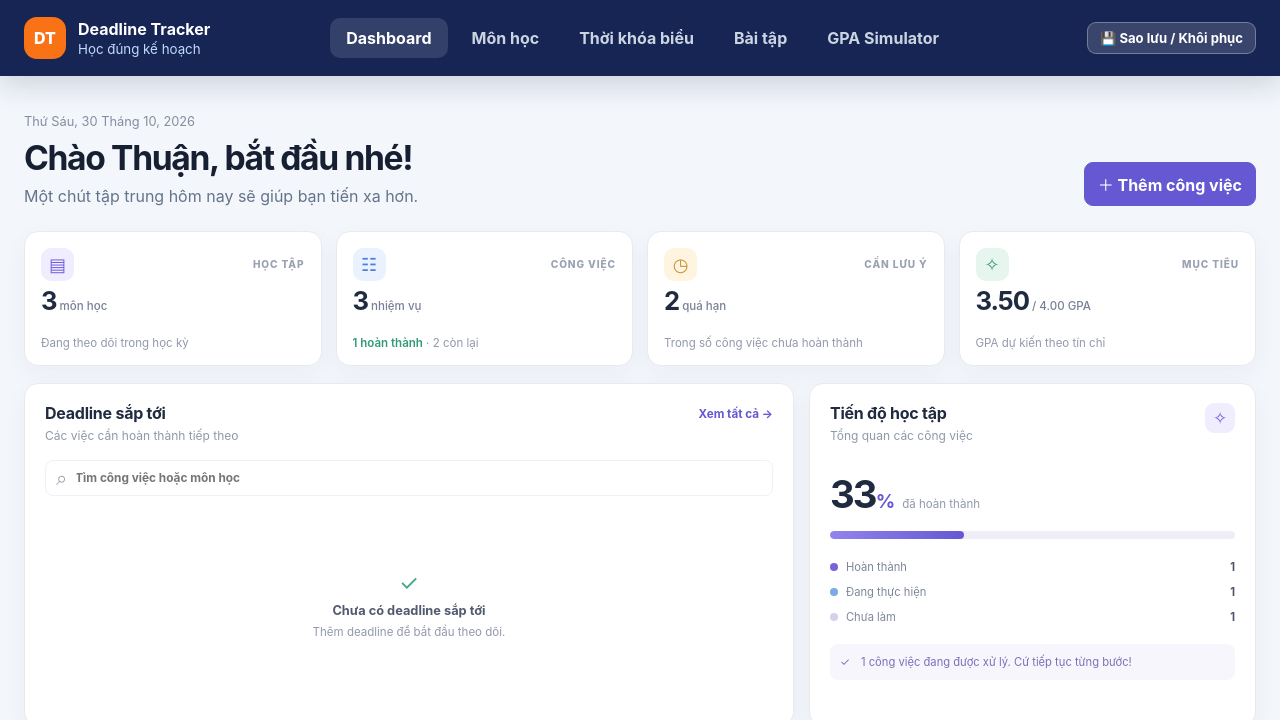
Test: Local Storage Hardening & Triage Reproduction Suite › Issue 2: Storage QuotaExceededError and User Notification Visibility › displays visible warning banner when storage.setItem throws QuotaExceededError in UI
The image size is (1280, 720).
Step 1. Click the button "Môn học" → (505, 38), box [456,18,555,58]
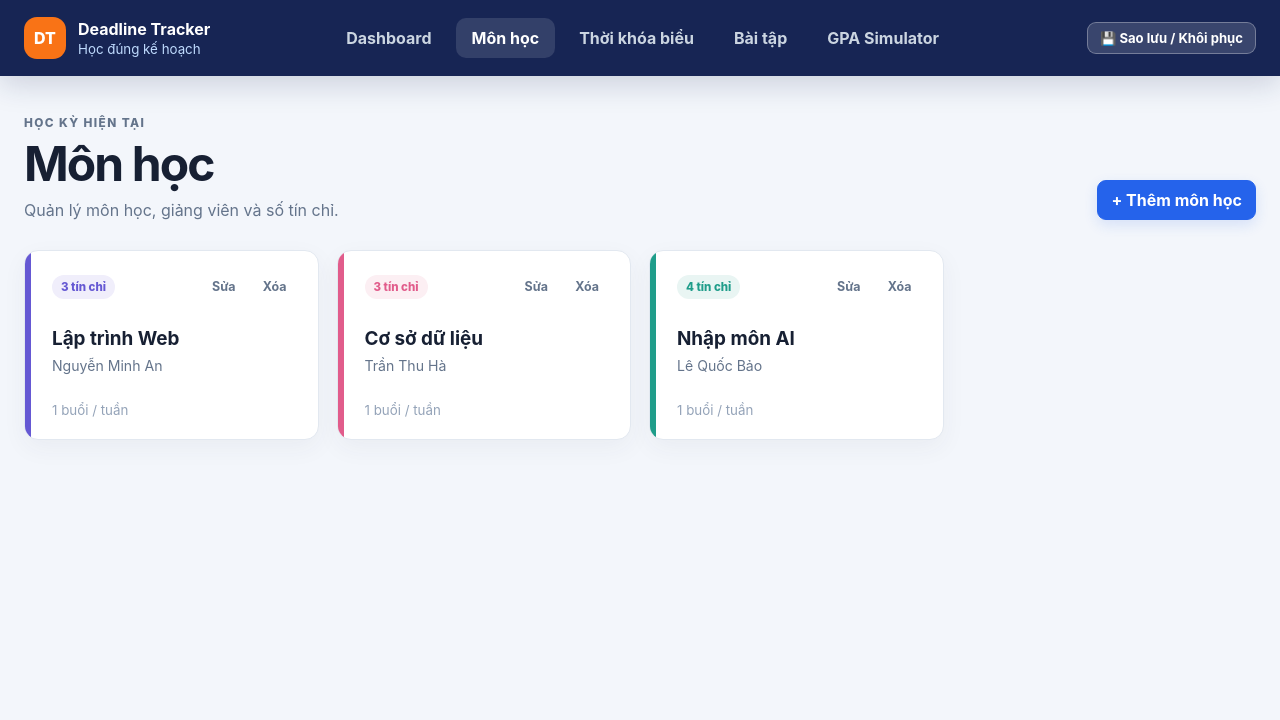
Open new course modal
Step 2. Click the button "+ Thêm môn học" → (1177, 200), box [1097,180,1256,220]
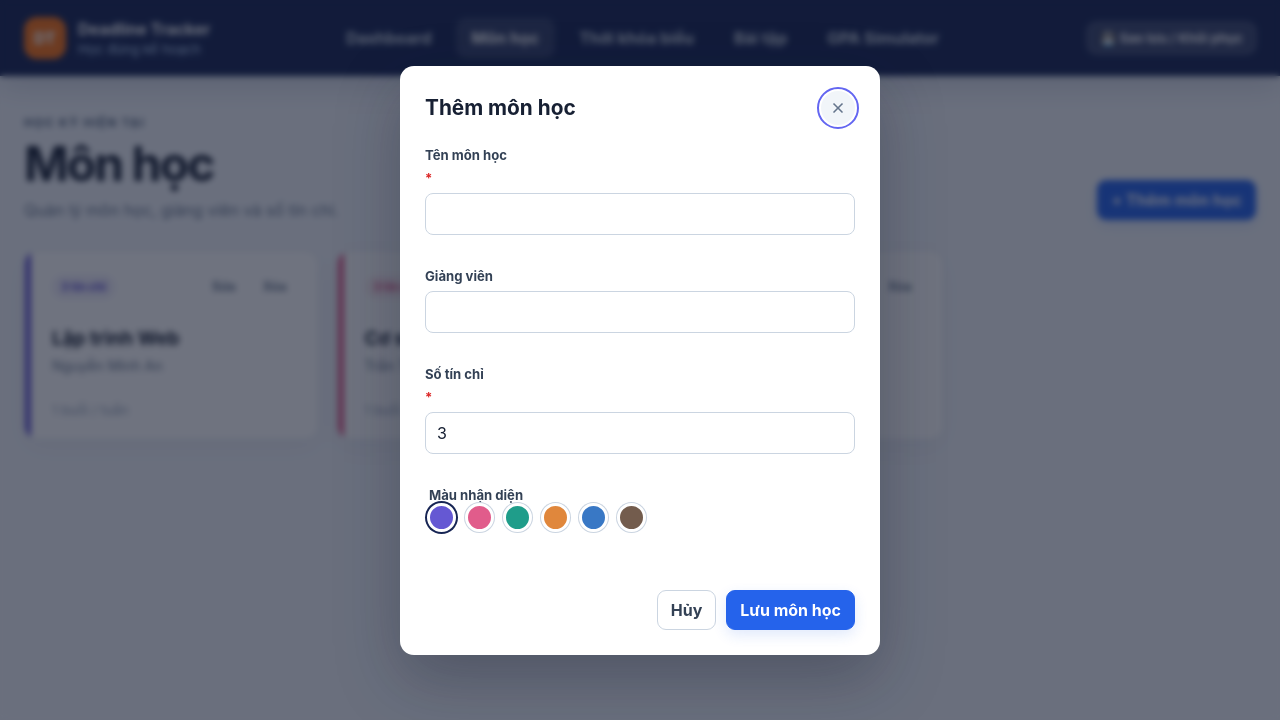
Step 3. Type "Môn học kiểm thử quota" into the field labelled "Tên môn học *" → (640, 214), box [425,192,855,234]
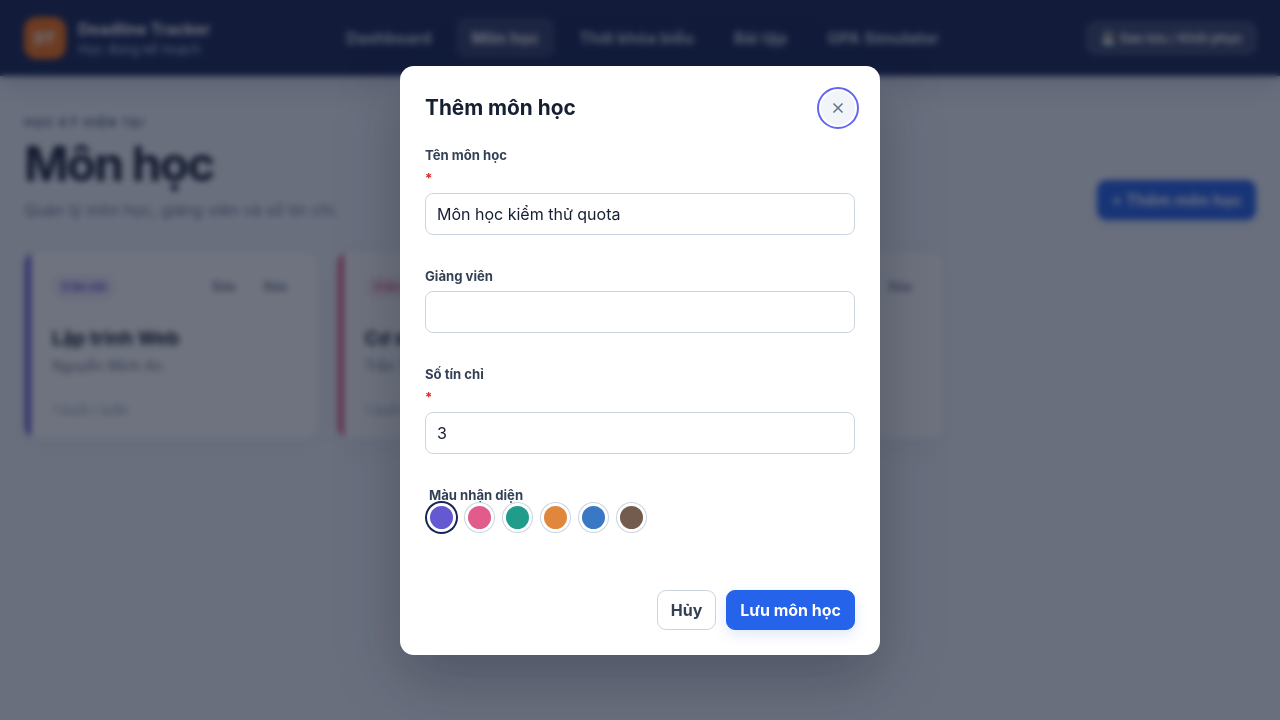
Step 4. Click the button "Lưu môn học" → (791, 610), box [726,590,855,630]
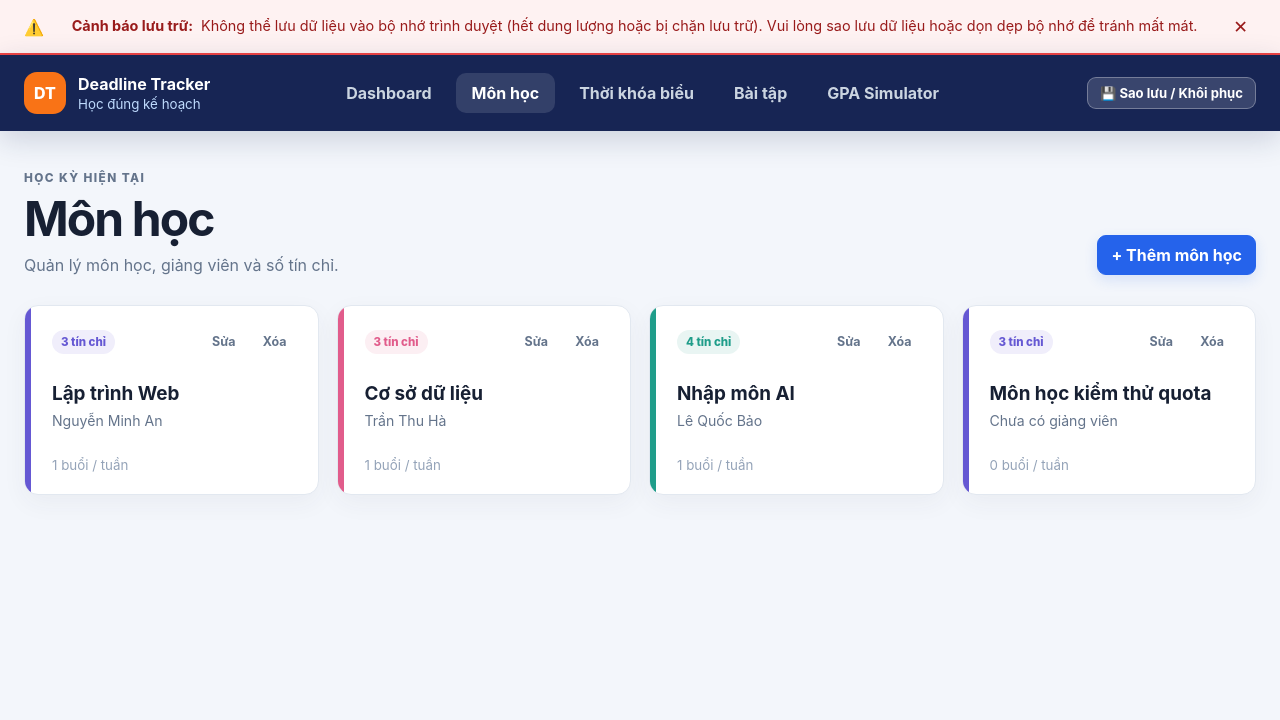
Check: the message is shown, box [0,0,1279,55]
Check: the message shows "Không thể lưu dữ liệu vào bộ nhớ trình duyệt", box [201,17,1198,34]
Test dismissing the banner
Step 5. Click the button named "Đóng thông báo lỗi lưu trữ" → (1241, 26), box [1225,12,1256,41]
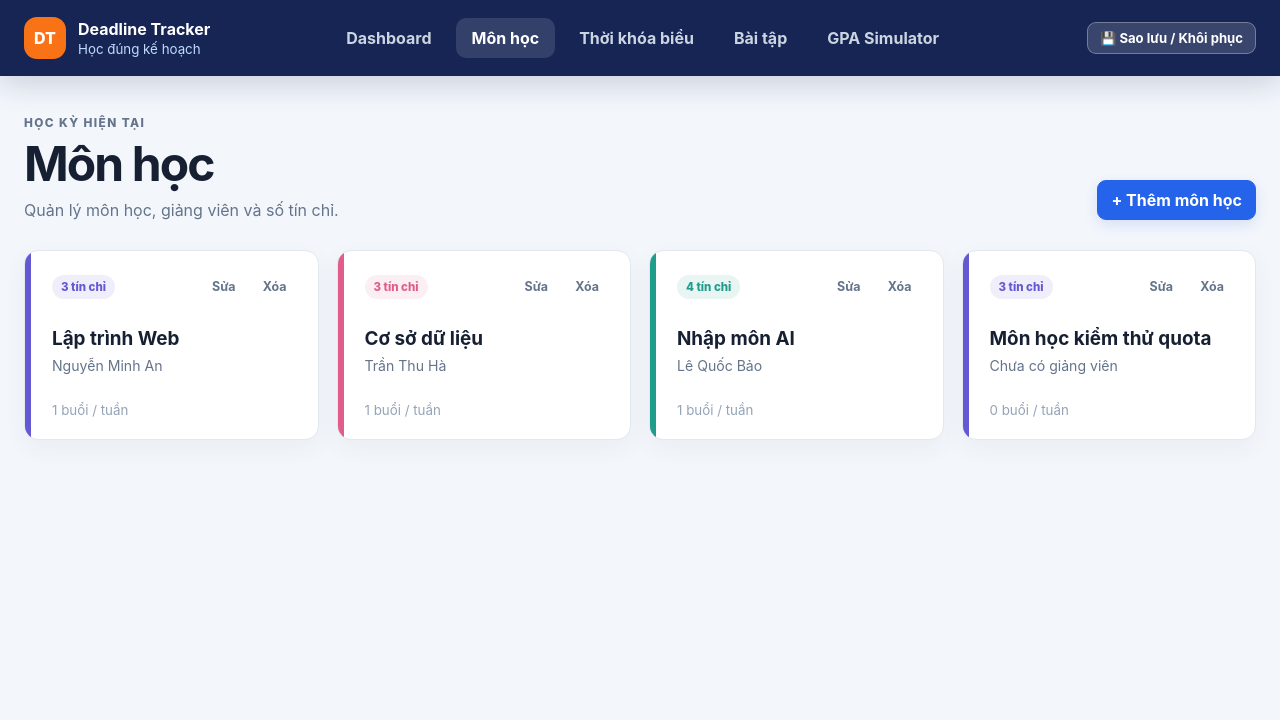
Check: the message is gone
